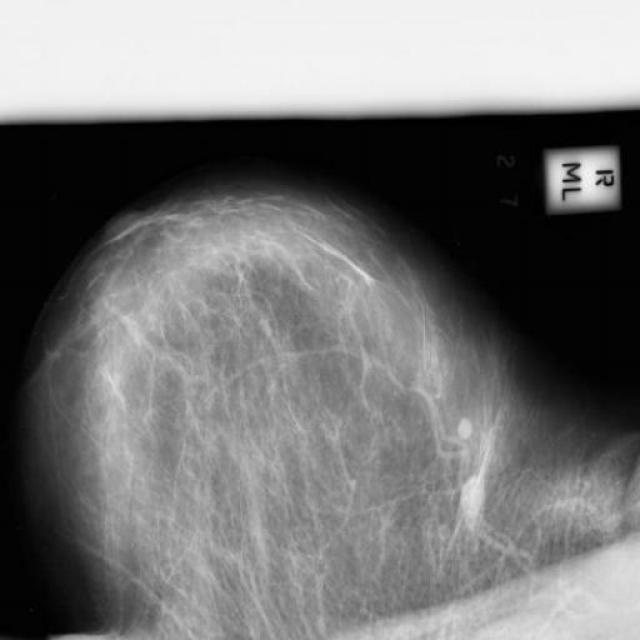cancer: (446, 461, 502, 528), (452, 402, 482, 447)
